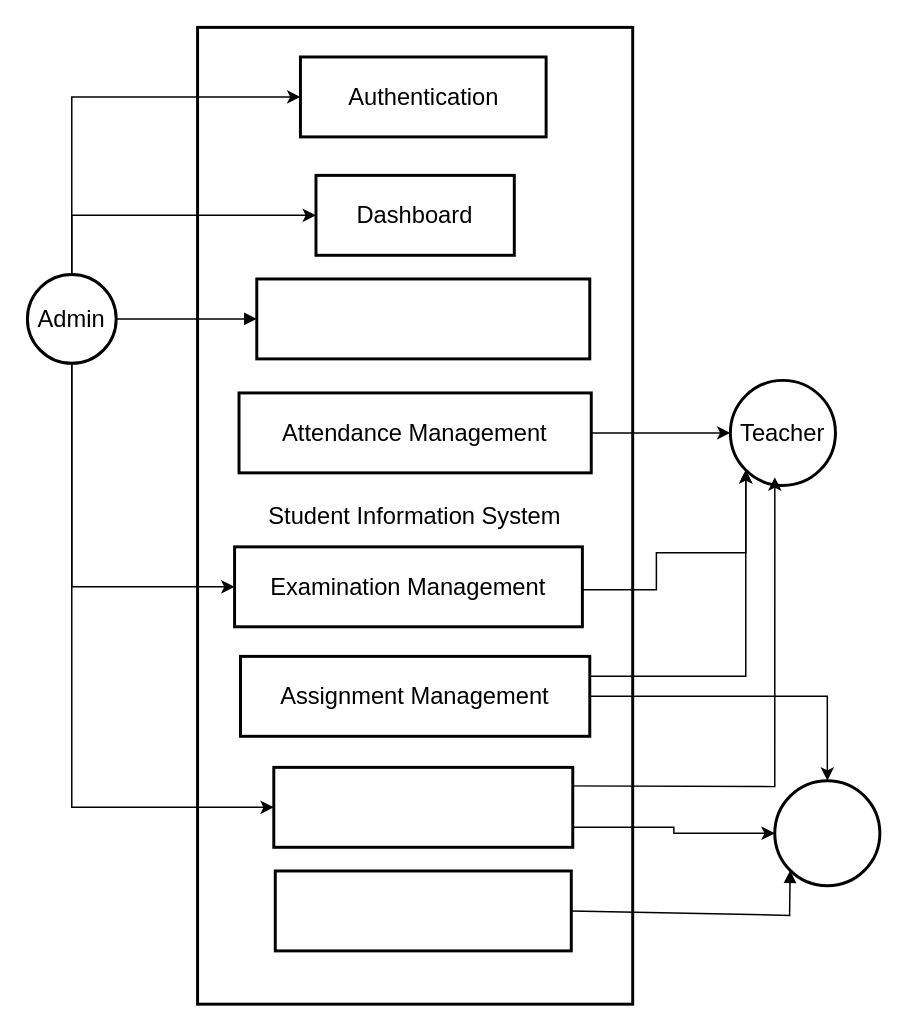
Image size: 906x1030. Some labels were removed from this diagram. Here are the shapes that lost their labels. From the top down, the box of each, then its label:
(255, 277, 591, 360): Academic Management
(272, 765, 574, 848): Notice Management
(773, 778, 881, 887): Student
(273, 869, 572, 952): View Academic Info
